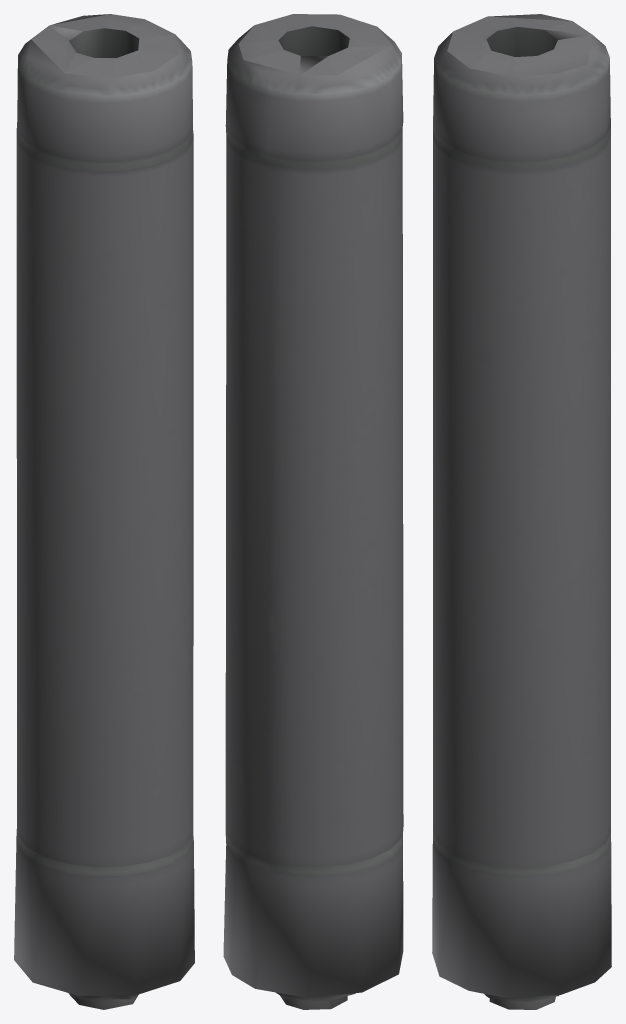
File: PPKS_Suppressor.fbx
The picture shows the model from 3 angles, left to right: view 1: azimuth 30°, elevation 25°; view 2: azimuth 150°, elevation 25°; view 3: azimuth 270°, elevation 25°; orthographic projection.
Visible parts, largest first — view 1: PPKS_Suppressor; view 2: PPKS_Suppressor; view 3: PPKS_Suppressor.
Boxes of the visible parts, <box> form: PPKS_Suppressor: <box>14,14,194,1009</box>; PPKS_Suppressor: <box>223,14,403,1009</box>; PPKS_Suppressor: <box>432,14,611,1009</box>.
Bounding box in the file's own units: 0.0176 × 0.1028 × 0.0176.
